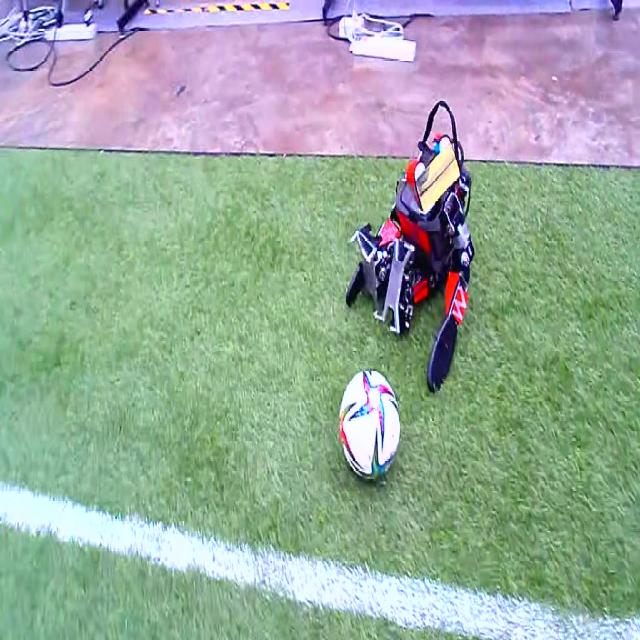ball: (340, 369, 400, 476)
